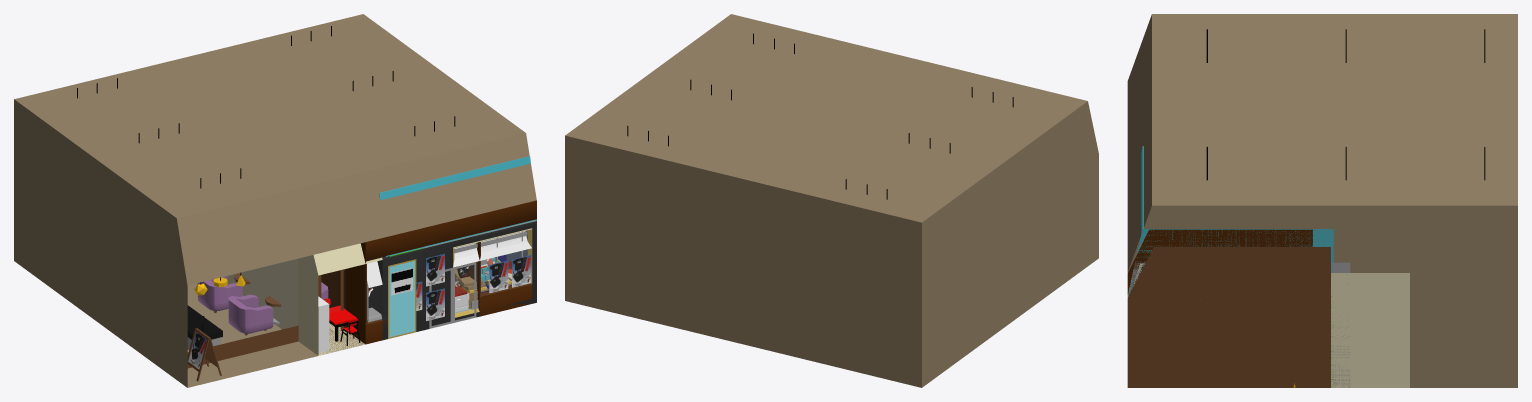
3 renders of one model, left to right at view 1: azimuth 30°, elevation 25°; view 2: azimuth 150°, elevation 25°; view 3: azimuth 270°, elevation 25°, orthographic. The views are drawn at different scales.
Visible parts, largest first — view 1: mixed_2, mixed_7, mixed_4, house, sofafabric_2, mixed_9, house_2, fakewindow_3, gold, metal_7, mixed_8, poster_12 (+5 smaller); view 2: mixed_2; view 3: mixed_2, mixed_8, mixed_7, mixed_4, house_2, mixed.
Boxes of the visible parts, x1,y1,x2,y2 form: mixed_2: [14, 14, 536, 387]; mixed_7: [227, 243, 511, 355]; mixed_4: [321, 200, 536, 344]; house: [368, 221, 536, 340]; sofafabric_2: [197, 276, 328, 333]; mixed_9: [367, 231, 531, 322]; house_2: [379, 156, 536, 258]; fakewindow_3: [389, 261, 414, 337]; gold: [388, 228, 532, 338]; metal_7: [429, 259, 487, 328]; mixed_8: [387, 257, 511, 312]; poster_12: [512, 255, 531, 287]; mixed_2: [565, 14, 1098, 387]; mixed_2: [1127, 14, 1517, 387]; mixed_8: [1127, 247, 1330, 387]; mixed_7: [1128, 273, 1409, 387]; mixed_4: [1127, 229, 1312, 294]; house_2: [1128, 146, 1333, 294]; mixed: [1127, 262, 1350, 387].
Bounding box in the file's own units: 6126 × 2890 × 5271.
Materials: 52 (6 with a texture image).
